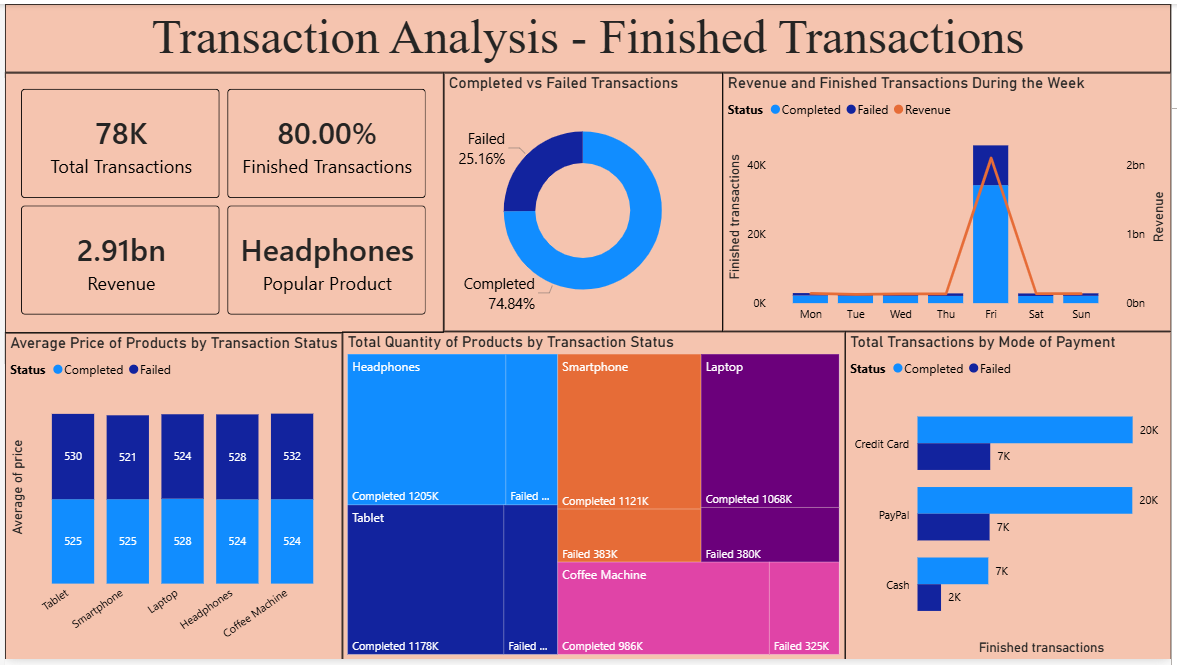

The dashboard page shown, as its layout file describes it:
{"tool":"powerbi","page":{"name":"Historical Analysis - Finished","canvas":[1280,720],"ordinal":0},"visuals":[{"type":"textbox","box":[0,0,1280.3,75.5],"z":0},{"type":"columnChart","title":"Average Price of Products by Transaction Status","fields":{"Category":["historical.product_name"],"Series":["historical.transaction_status"],"Y":["Avg(historical.price)"]},"box":[0,360.9,370.5,359.5],"z":1000},{"type":"treemap","title":"Total Quantity of Products by Transaction Status","fields":{"Group":["historical.product_name"],"Values":["Sum(historical.quantity)"],"Details":["historical.transaction_status"]},"box":[370.5,359.5,551.6,360.9],"z":2000},{"type":"donutChart","title":"Completed vs Failed Transactions","fields":{"Y":["_Calculations.Completed transactions"],"Category":["historical.transaction_status"]},"box":[481.6,75.5,306,284],"z":3000},{"type":"lineStackedColumnComboChart","title":"Revenue and Finished Transactions During the Week","fields":{"Category":["Calendar.DayOfWeek"],"Y2":["_Calculations.Revenue"],"Series":["historical.transaction_status"],"Y":["_Calculations.Finished transactions"]},"box":[787.7,75.5,492.6,284],"z":4000},{"type":"clusteredBarChart","title":"Total Transactions by Mode of Payment","fields":{"Category":["historical.payment_method"],"Y":["_Calculations.Completed transactions"],"Series":["historical.transaction_status"]},"box":[922.1,359.5,358.1,360.9],"z":5000},{"type":"cardVisual","fields":{"Data":["_Calculations.Total Transactions","_Calculations.% Finished","_Calculations.Revenue","_Calculations.Popular Product"]},"box":[0,75.5,481.6,285.4],"z":6000}]}

Visuals, with their boxes in screenshot pixels (x1, y1, x2, y2), scaled from the page's 1280x720 canvas onto the 1177x665 screenshot:
textbox: 0, 0, 1176, 70
"Average Price of Products by Transaction Status" columnChart: 0, 333, 341, 664
"Total Quantity of Products by Transaction Status" treemap: 341, 332, 848, 664
"Completed vs Failed Transactions" donutChart: 443, 70, 724, 332
"Revenue and Finished Transactions During the Week" lineStackedColumnComboChart: 724, 70, 1176, 332
"Total Transactions by Mode of Payment" clusteredBarChart: 848, 332, 1176, 664
cardVisual - _Calculations.Total Transactions x _Calculations.% Finished: 0, 70, 443, 333
